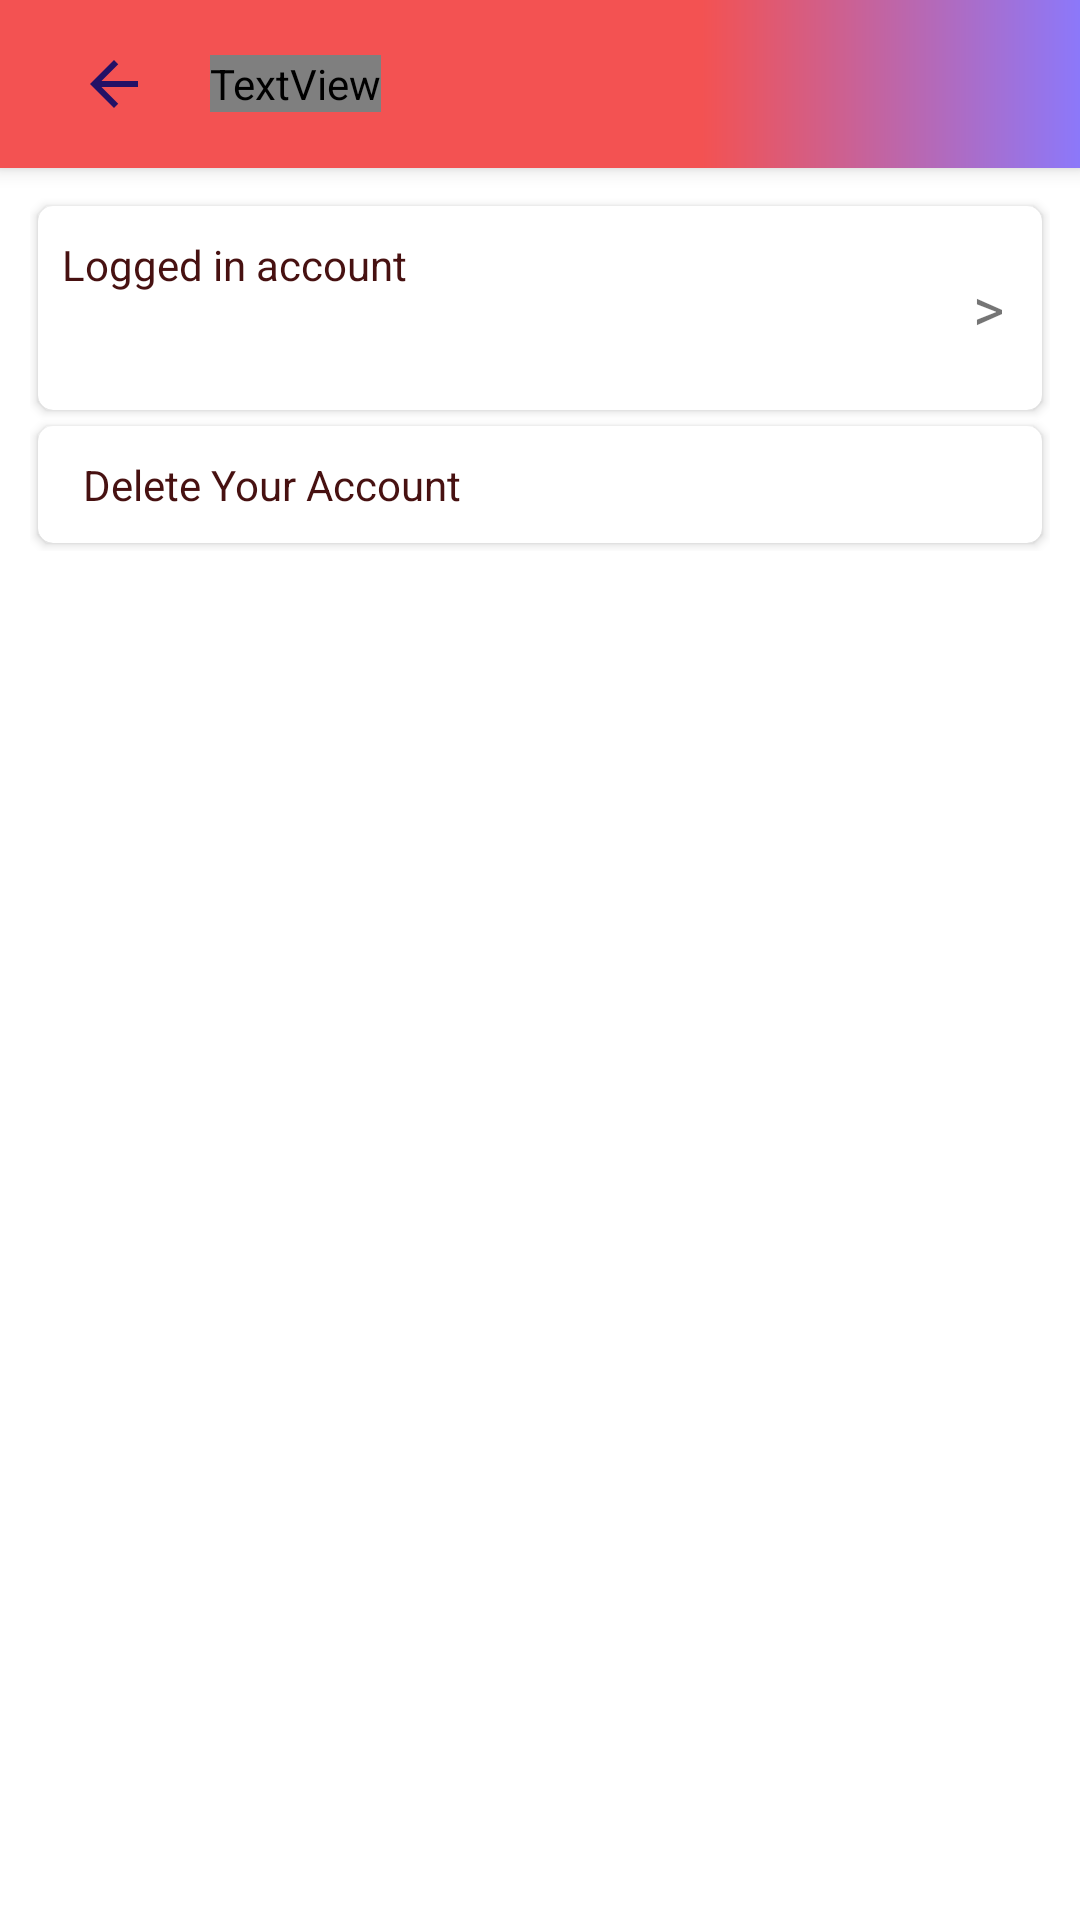

Icon click points for this 1080 × 1920 phone screenshot, format (x=x, y=y):
arrow back: (x=114, y=84)
